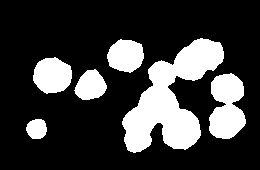cell: (122, 38, 223, 152), (209, 73, 245, 138), (33, 57, 71, 93), (107, 39, 143, 72), (74, 69, 106, 99), (26, 119, 46, 138)
